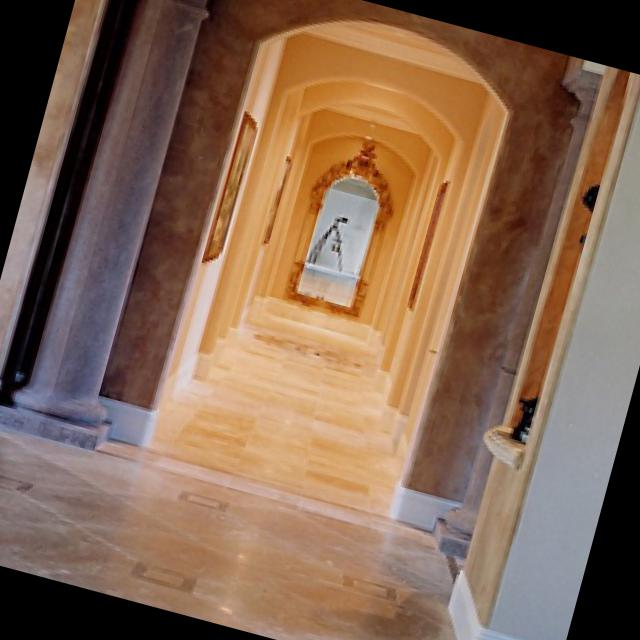column occluded: (0, 0, 212, 443)
corridor: (156, 21, 513, 483)
floor tile: (0, 311, 460, 640)
mirror crop: (293, 136, 400, 313)
painting crop: (202, 112, 261, 257), (414, 180, 453, 309)
